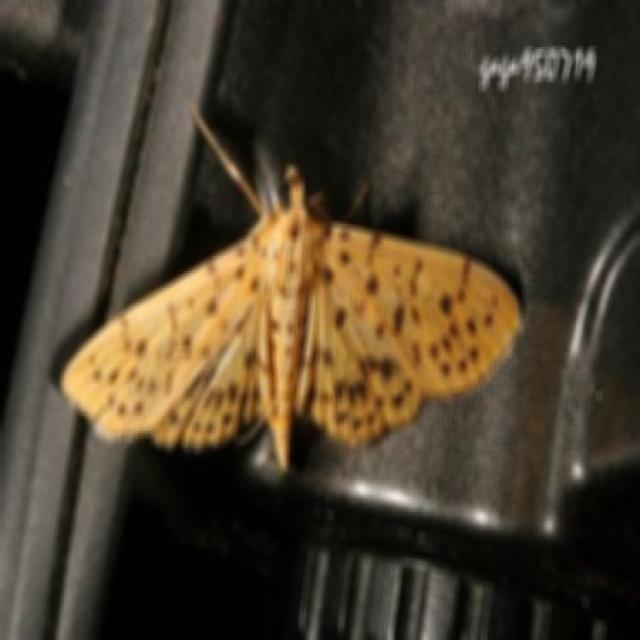peach borer: (64, 160, 525, 473)
